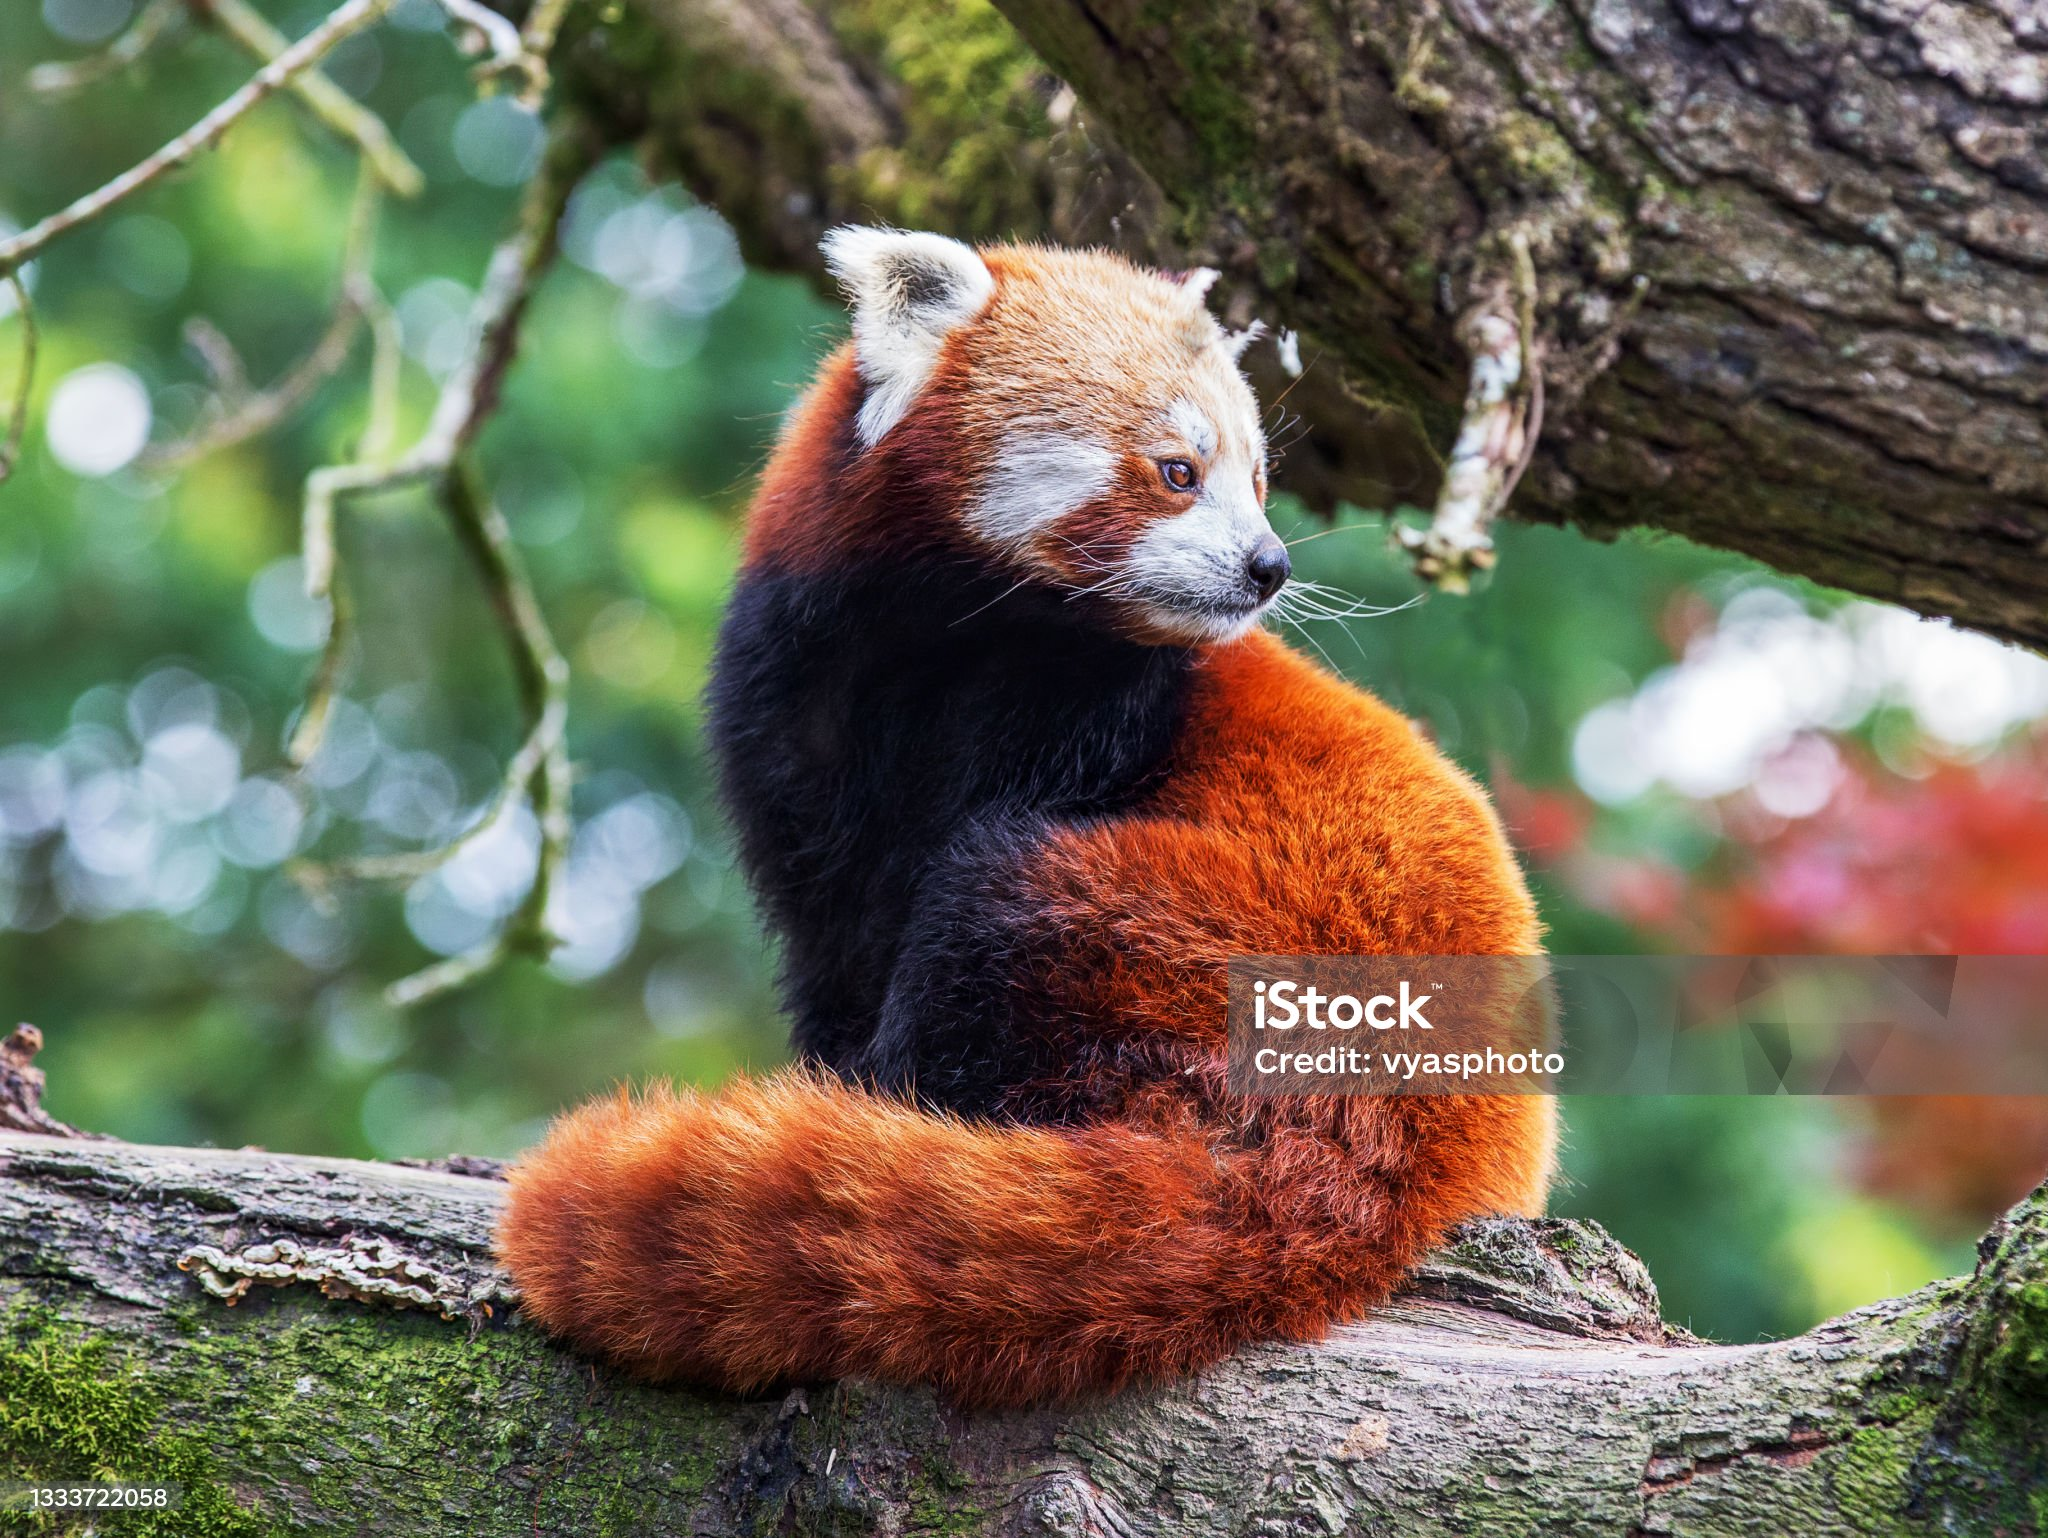Red panda: (822, 216, 1307, 662)
